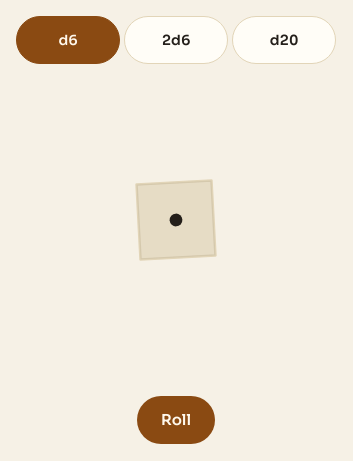
Test: DiceScreen › clears the previous result when the mode changes
Click the radio button labelled "2d6". click: coordinates (176, 40)
box: [124,16,228,64]
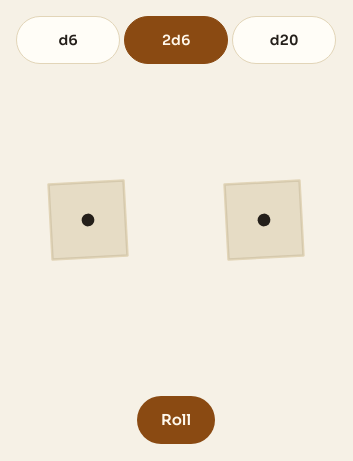
Click the button "Roll". click: coordinates (176, 420)
box: [137,396,215,444]
Wait 900 ms
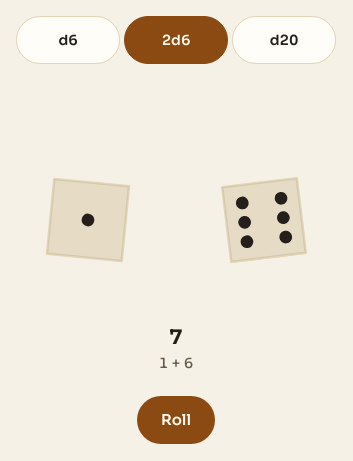
expect the text "1 + 6" is shown: met, box [159,352,193,374]
Click the radio button labelled "d6". click: coordinates (68, 40)
box: [16,16,120,64]
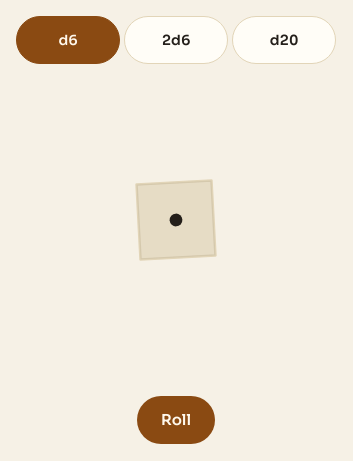
expect the text "1 + 6" is gone: met
